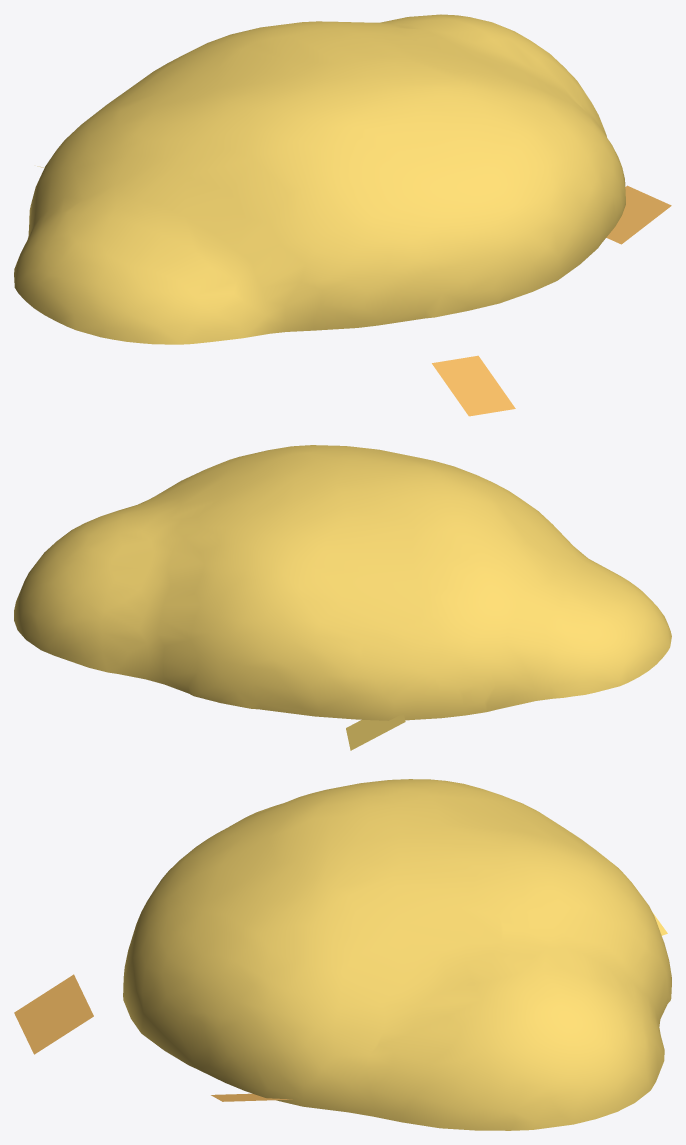
Rendered from leaf_pile.glb.
The picture shows the model from 3 angles, top to bottom: view 1: azimuth 30°, elevation 25°; view 2: azimuth 150°, elevation 25°; view 3: azimuth 270°, elevation 25°; orthographic projection. The views are drawn at different scales.
Visible parts, largest first — view 1: Pile, Plane.013, Plane.001; view 2: Pile, Plane.010; view 3: Pile, Plane.013.
Part boxes in pixels (bbox=[...]): Pile: bbox=[14, 14, 625, 344]; Plane.013: bbox=[432, 355, 515, 416]; Plane.001: bbox=[606, 185, 671, 244]; Pile: bbox=[14, 445, 671, 720]; Plane.010: bbox=[346, 713, 405, 750]; Pile: bbox=[123, 779, 671, 1130]; Plane.013: bbox=[14, 974, 93, 1054].
Bounding box in the file's own units: 2.64 × 0.8806 × 2.39.
